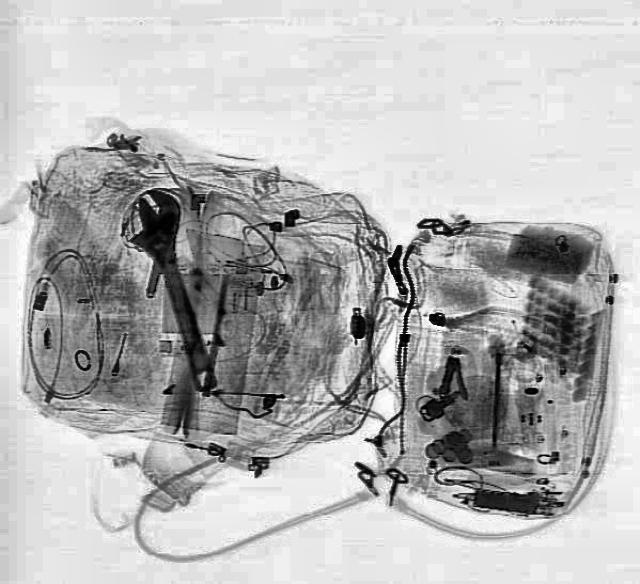Wrench: (115, 183, 232, 395)
